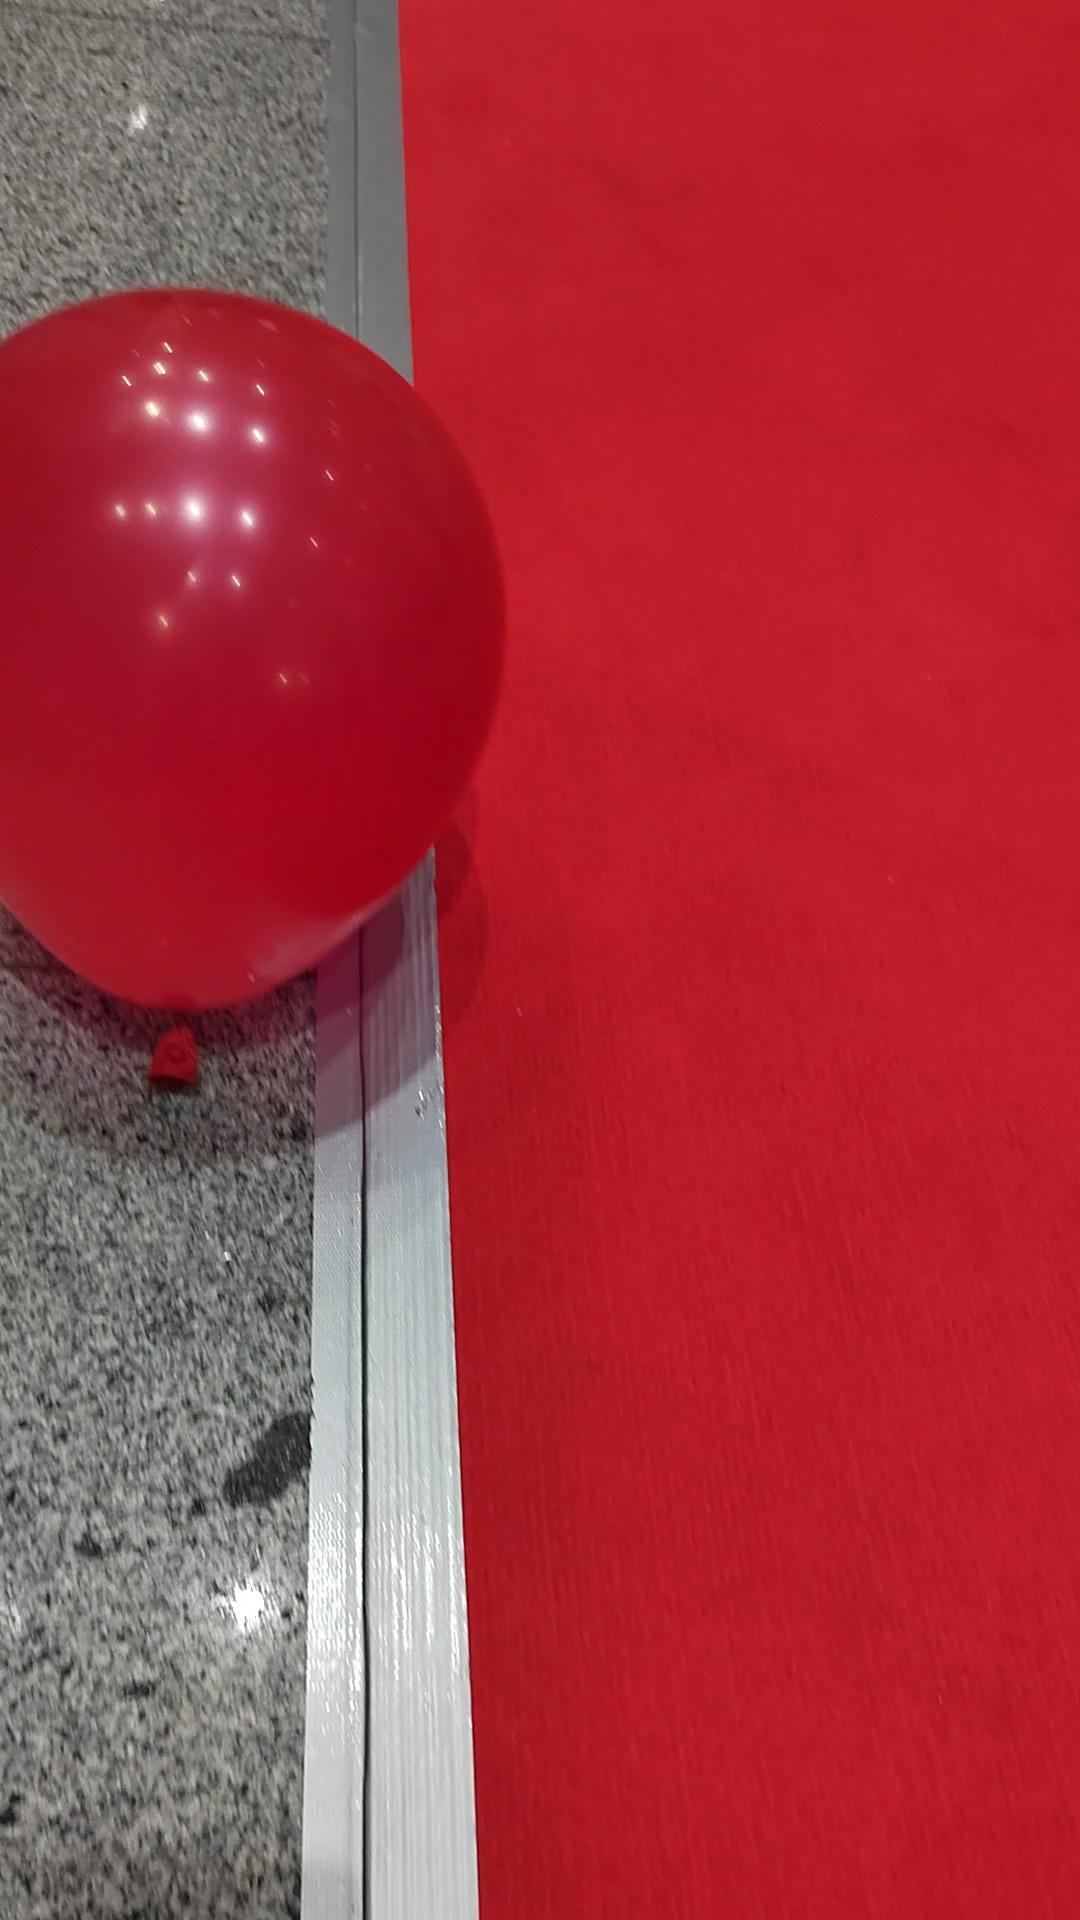red: (0, 278, 510, 1021)
